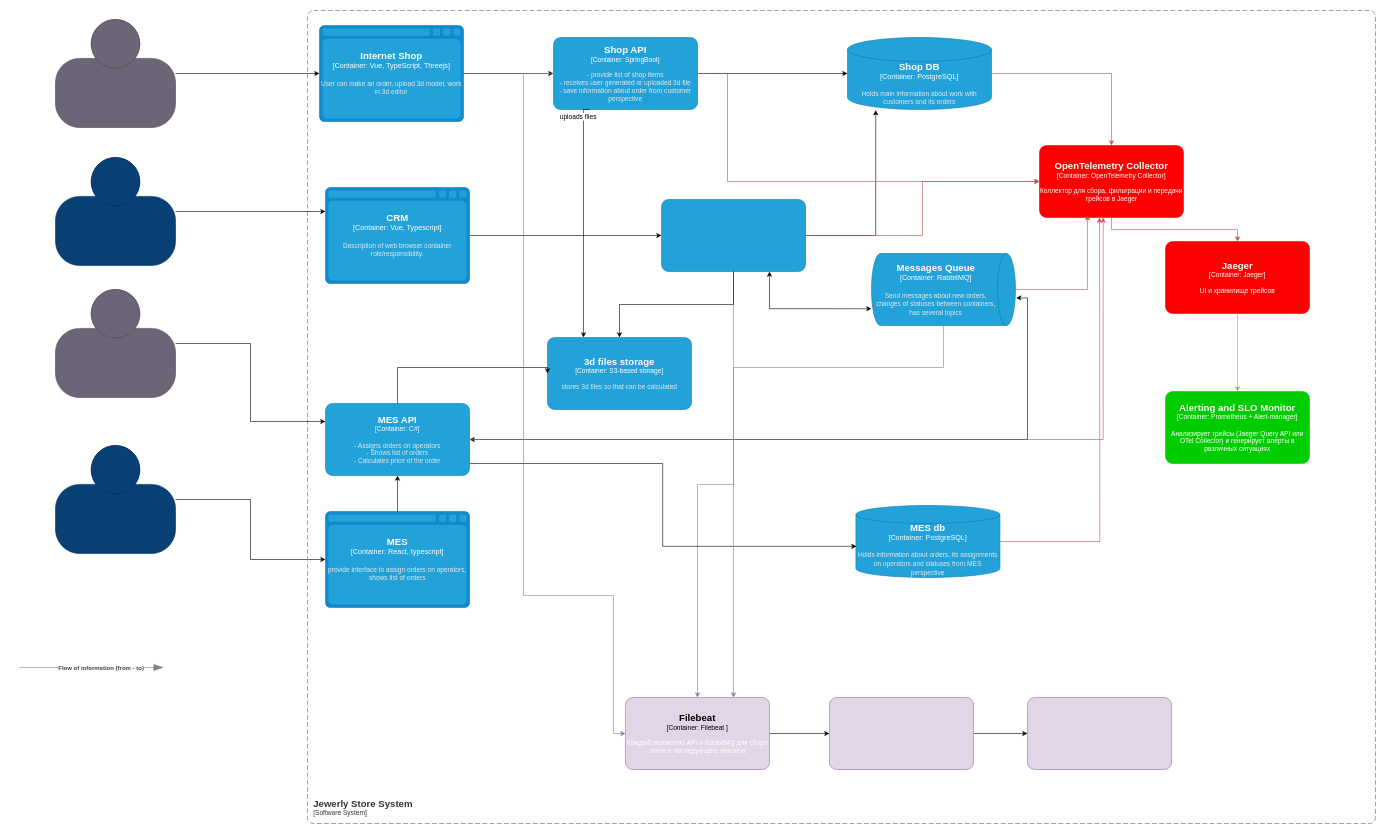
Image size: 1386x834. Some labels were removed from this diagram. The shapes that lost their labels are listed below. From the top down, each one's centre as x and y in pixels, then its label:
At (115,73): "Customer [Person] Description of external person.".
At (115,211): "Seller [Person] Operates with order, confirms manufacturing for the user".
At (733,235): "CRM API [Container: SpringBoot] Description of container role/responsibility.".
At (115,343): "API user [Person] Description of external person.".
At (115,499): "Operator [Person] Takes order in work, manufactures jewerly".
At (901,733): "OpenSearch [Container: OpenSearch] хранение данных и индексация результатов".
At (1099,733): "Kibana [Container: Kibana] Анализ и поиск визуальный".
